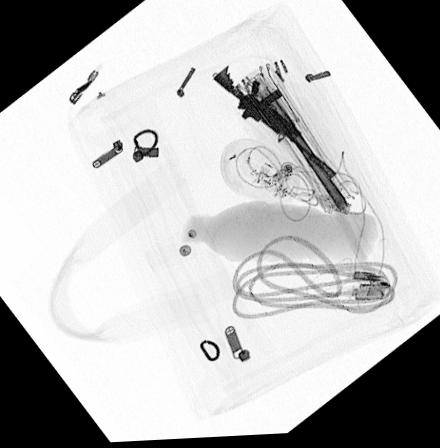Gun: (211, 68, 336, 182)
